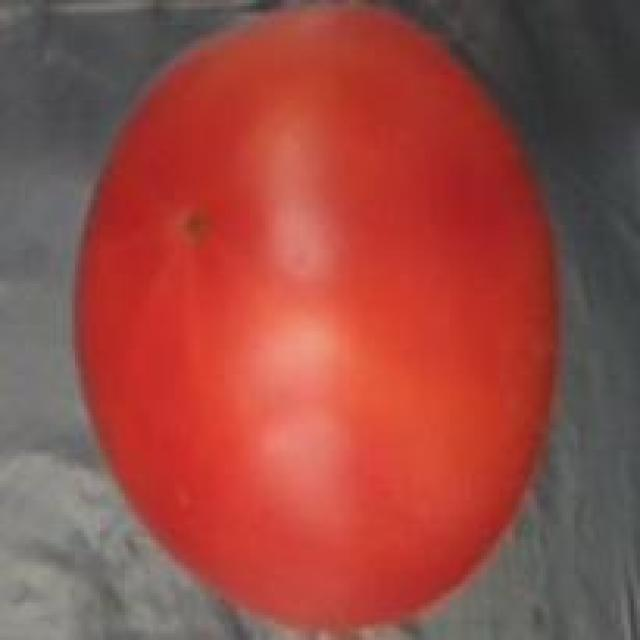ripe tomato: (56, 0, 572, 640)
